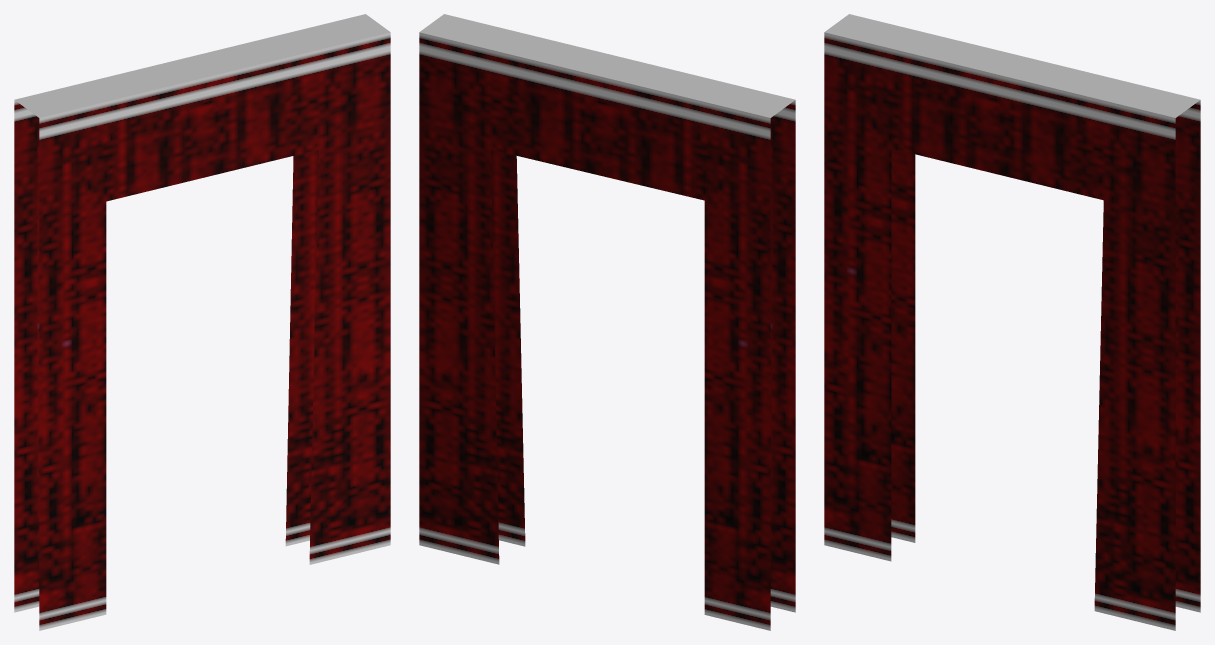
The model's file is W_I3_o [Rot2]_2062.glb.
3 views of the same model, side by side, from view 1: azimuth 30°, elevation 25°; view 2: azimuth 150°, elevation 25°; view 3: azimuth 330°, elevation 25° (orthographic).
Parts seen in each view (by area): view 1: pPlaneShape2, pPlaneShape3, pPlaneShape1; view 2: pPlaneShape3, pPlaneShape2, pPlaneShape1; view 3: pPlaneShape2, pPlaneShape3, pPlaneShape1.
Part boxes in pixels (x1,y1,x2,y2): pPlaneShape2: (39,32,390,630); pPlaneShape3: (14,100,318,612); pPlaneShape1: (14,14,390,117); pPlaneShape3: (419,32,770,630); pPlaneShape2: (491,100,795,612); pPlaneShape1: (419,14,795,117); pPlaneShape2: (824,32,1175,630); pPlaneShape3: (891,100,1200,612); pPlaneShape1: (824,14,1200,117).
Bounding box in the file's own units: 0.25 × 0.3486 × 0.0308.
3 materials, 2 textured.
